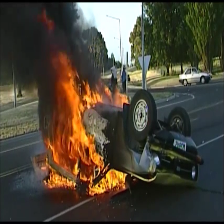fire_h: (41, 51, 111, 181), (89, 169, 127, 196), (44, 171, 77, 188)
fire_l: (113, 86, 130, 108), (40, 10, 53, 32), (41, 159, 55, 171), (104, 84, 112, 97)
